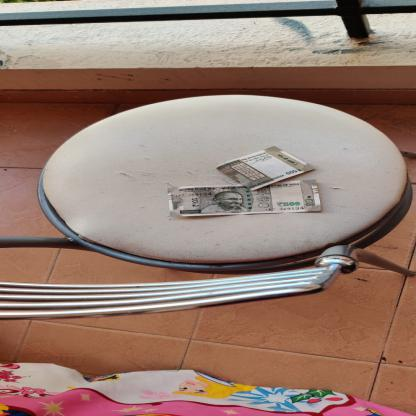New500Back: (214, 146, 317, 190)
New500Front: (166, 179, 322, 217)
